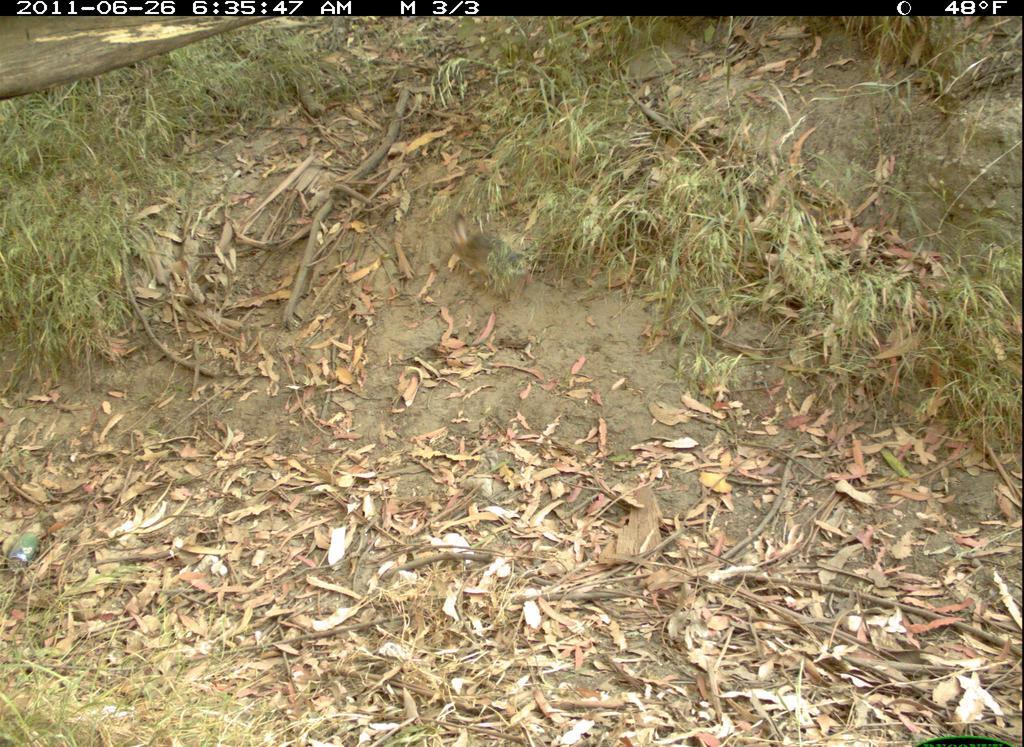rabbit: (446, 214, 536, 302)
